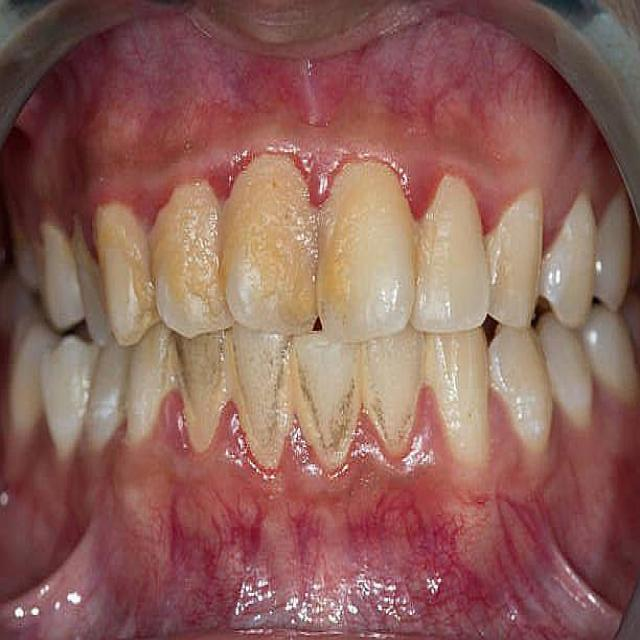calculus: (213, 138, 316, 317), (148, 178, 222, 316), (304, 158, 357, 302), (94, 203, 156, 321), (285, 361, 351, 464), (228, 351, 282, 469), (362, 354, 400, 462), (182, 358, 226, 447), (157, 331, 186, 389)
